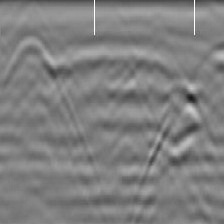Utility: (0, 30, 66, 97), (158, 80, 215, 136), (196, 39, 224, 78)
